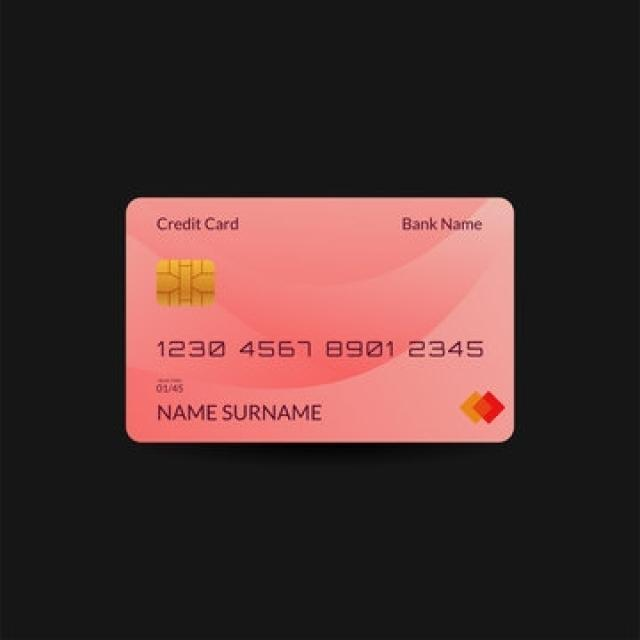payment_card: (123, 195, 516, 444)
